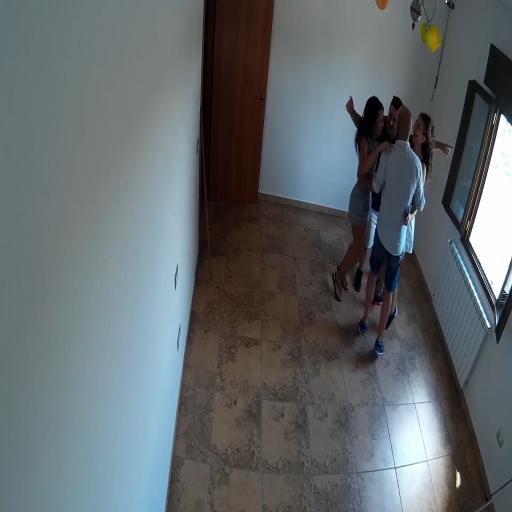nao-violencia: (324, 74, 455, 374)
